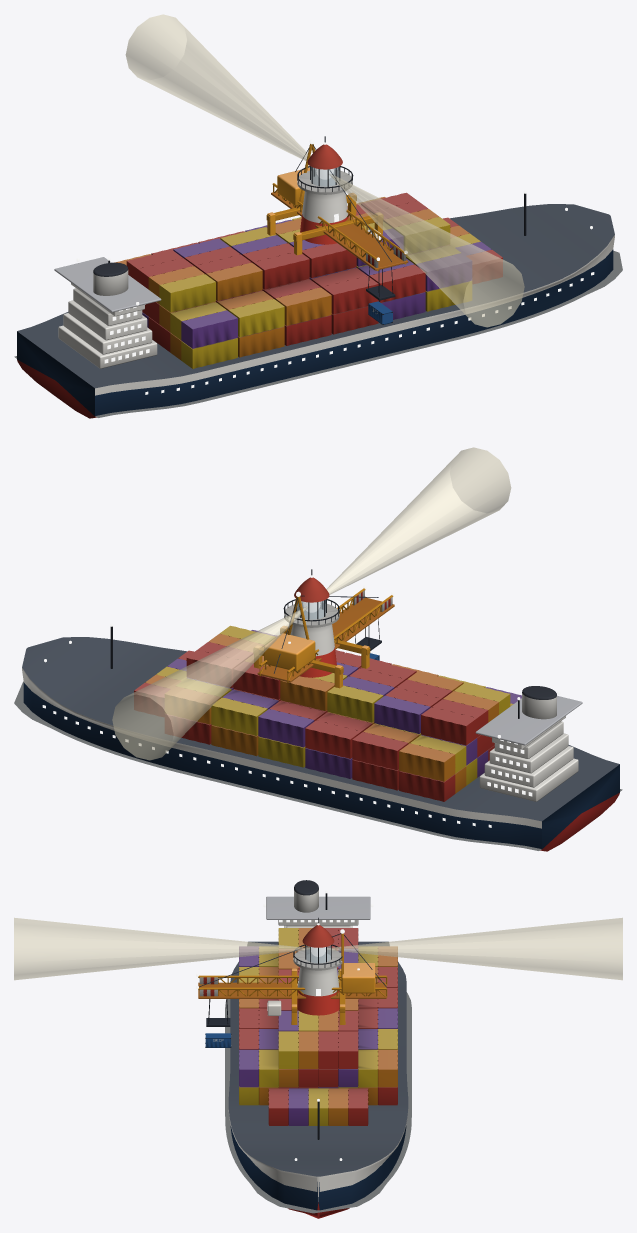
The model's file is world-harbour.glb.
3 renders of one model, top to bottom at view 1: azimuth 30°, elevation 25°; view 2: azimuth 150°, elevation 25°; view 3: azimuth 270°, elevation 25°, orthographic. The views are drawn at different scales.
Parts seen in each view (by area): view 1: ship.body, lighthouse.beam, crane.body, lighthouse.body, crane.load; view 2: ship.body, lighthouse.beam, crane.body, lighthouse.body; view 3: ship.body, lighthouse.beam, crane.body, lighthouse.body, crane.load.
Part boxes in pixels (box(x1,y1,x2,y2)): ship.body: box(14, 190, 622, 418); lighthouse.beam: box(125, 14, 524, 327); crane.body: box(266, 139, 408, 271); lighthouse.body: box(297, 136, 353, 244); crane.load: box(366, 266, 395, 324); ship.body: box(14, 623, 622, 851); lighthouse.beam: box(112, 447, 511, 760); crane.body: box(253, 585, 394, 688); lighthouse.body: box(283, 569, 339, 677); ship.body: box(225, 880, 411, 1218); lighthouse.beam: box(14, 917, 622, 980); crane.body: box(196, 929, 387, 1024); lighthouse.body: box(293, 917, 342, 1015); crane.load: box(205, 999, 231, 1047).
Bounding box in the file's own units: 146 × 48.4 × 152.
